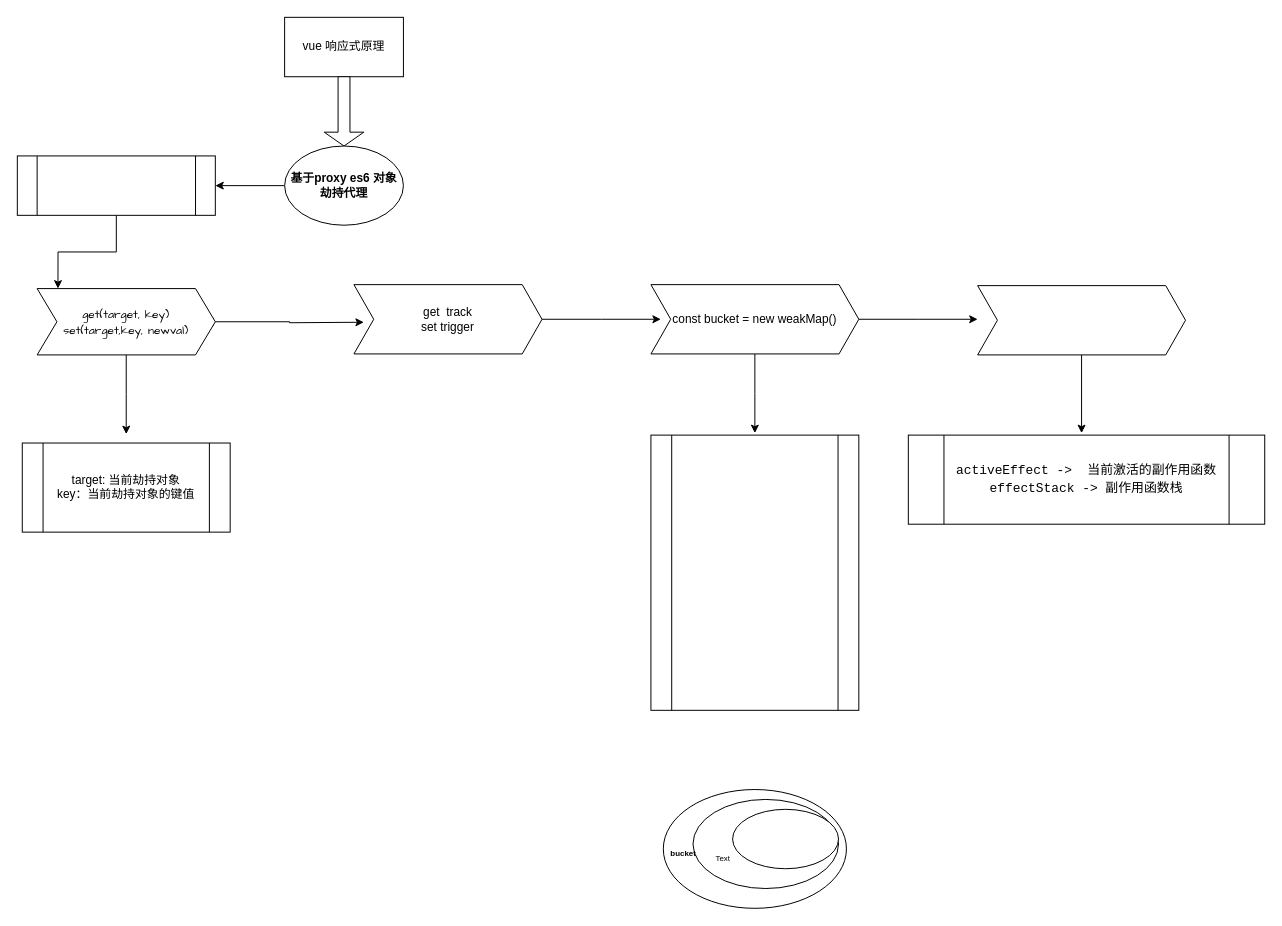
The diagram is 1282 pixels wide and 926 high, and some of its shapes have lost their labels. Here are the shapes that lost their labels. From the top down, the centre of each, then its label:
At point (115, 185): "new Proxy(data, {get ,set})".
At point (1081, 320): "activeEffect effectStack".
At point (754, 572): "储存副作用函数 bucket = { target: { key: { activeEffect } } }".
